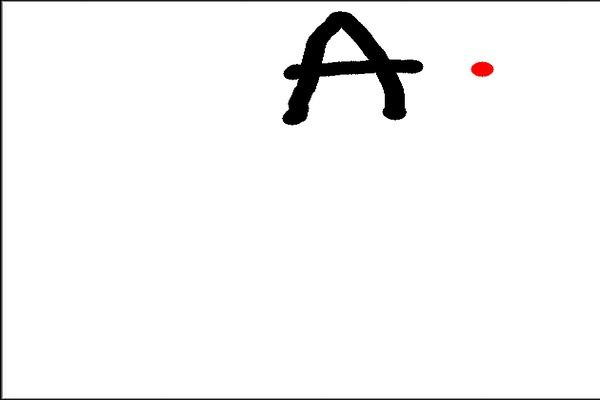A: (272, 7, 423, 131)
